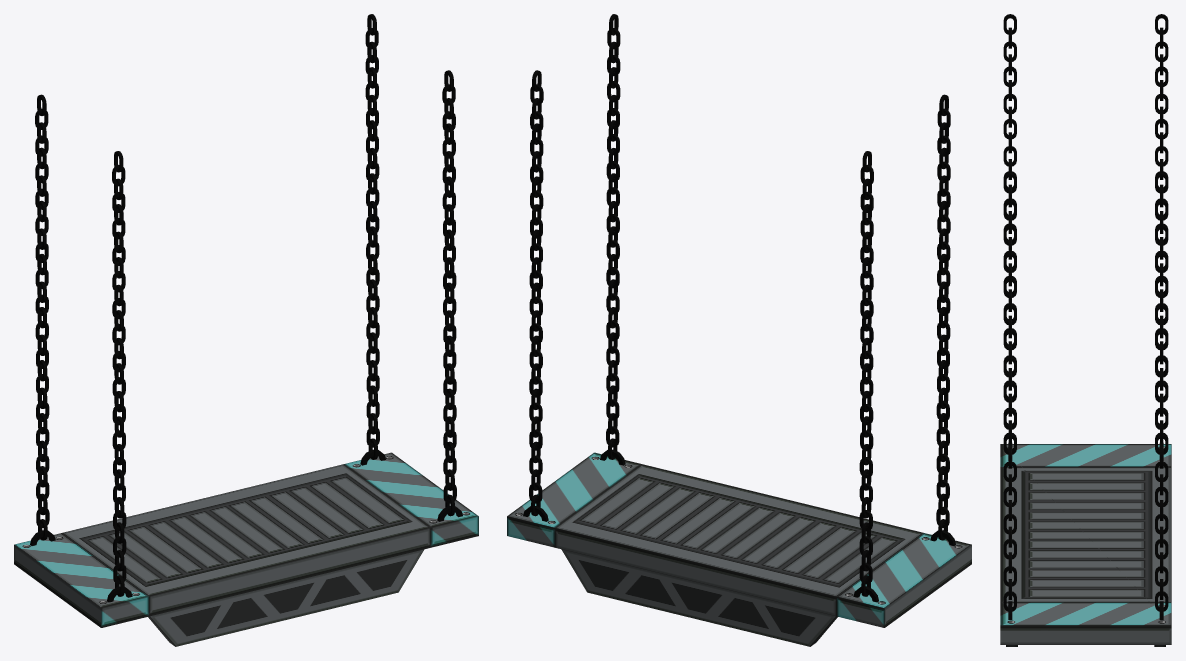
File: Bridge01.fbx
3 views of the same model, side by side, from view 1: azimuth 30°, elevation 25°; view 2: azimuth 150°, elevation 25°; view 3: azimuth 270°, elevation 25° (orthographic).
Visible parts, largest first — view 1: polySurface332, polySurface357; view 2: polySurface332, polySurface357; view 3: polySurface332, polySurface357.
Part boxes in pixels (x1,y1,x2,y2): polySurface332: (14,452,478,646); polySurface357: (30,14,462,602); polySurface332: (507,452,971,646); polySurface357: (523,14,955,602); polySurface332: (1000,444,1171,646); polySurface357: (1003,14,1168,619).
Bounding box in the file's own units: 1 × 1.28 × 0.4.
Materials: 1 (1 with a texture image).
